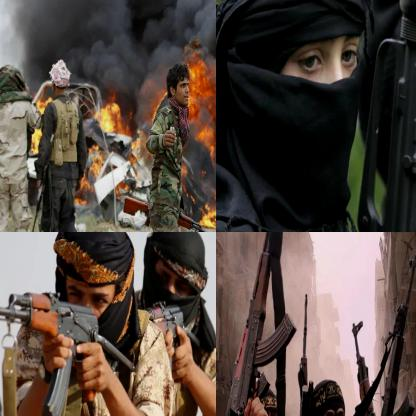rifle: (0, 277, 141, 415), (223, 232, 298, 415), (369, 0, 415, 231), (360, 253, 415, 415), (340, 316, 378, 415), (121, 192, 215, 231)
